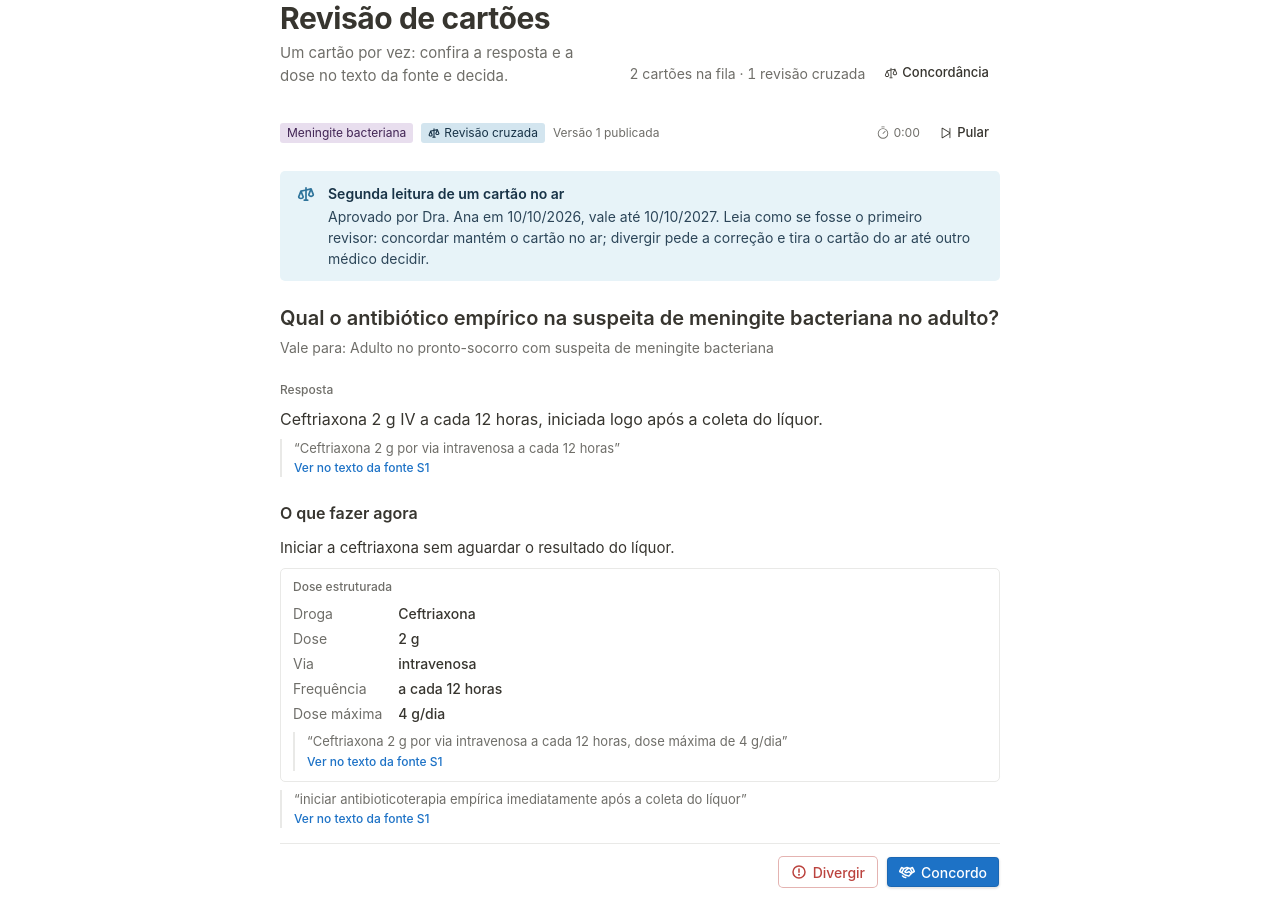
Test: Revisão cruzada (CC-411) › concordar registra o tempo de revisão e passa ao próximo
Expected: the heading "Qual o antibiótico empírico na suspeita de meningite bacteriana no adulto?" is shown, [280,305,1000,331]
Step 1. Click the 3rd button named "Concordo" → (943, 872), box [886,856,1000,888]
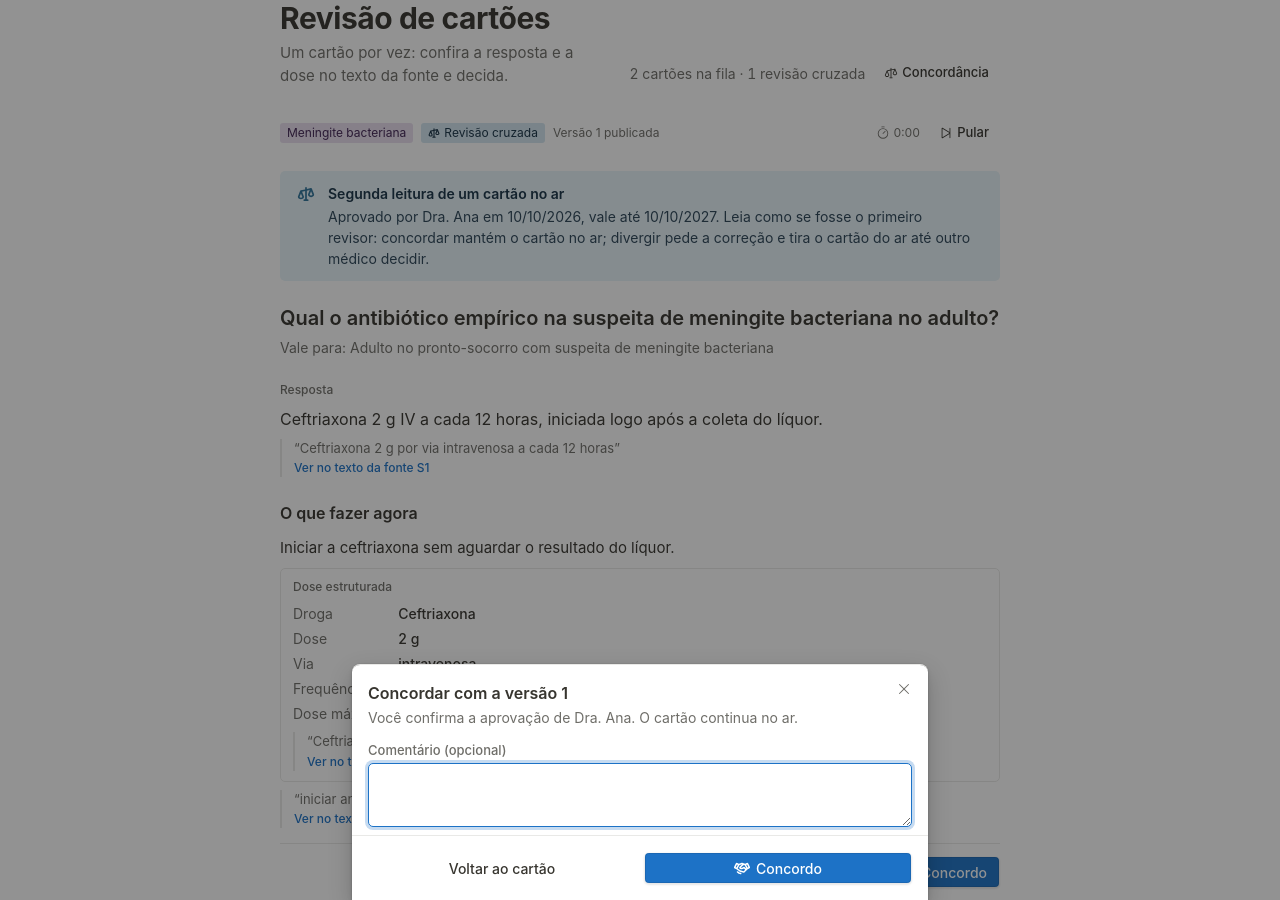
Step 2. Click the 3rd button named "Concordo" → (778, 868), box [644,852,912,884]
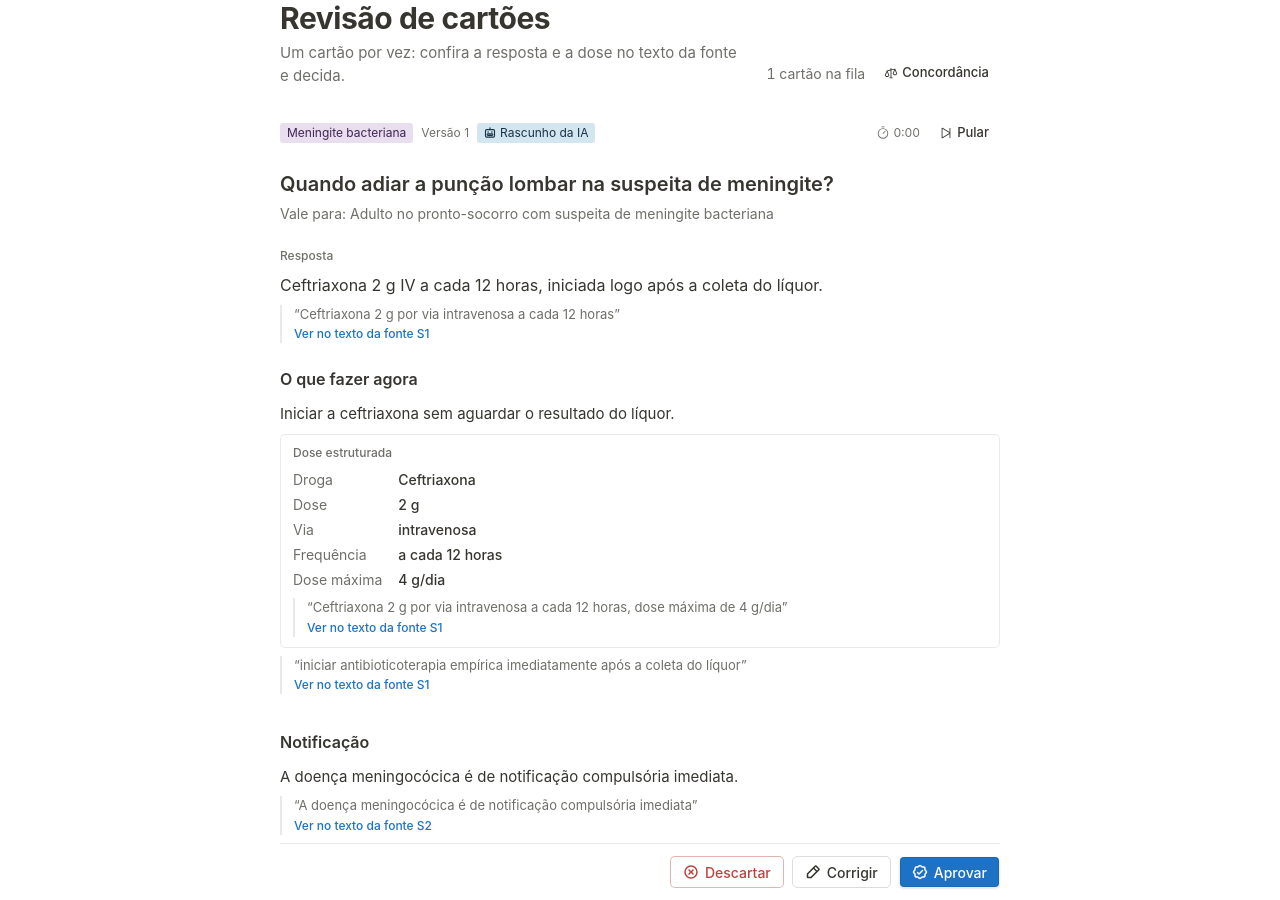
Result: the heading "Quando adiar a punção lombar na suspeita de meningite?" is shown at [280,172,834,196]
